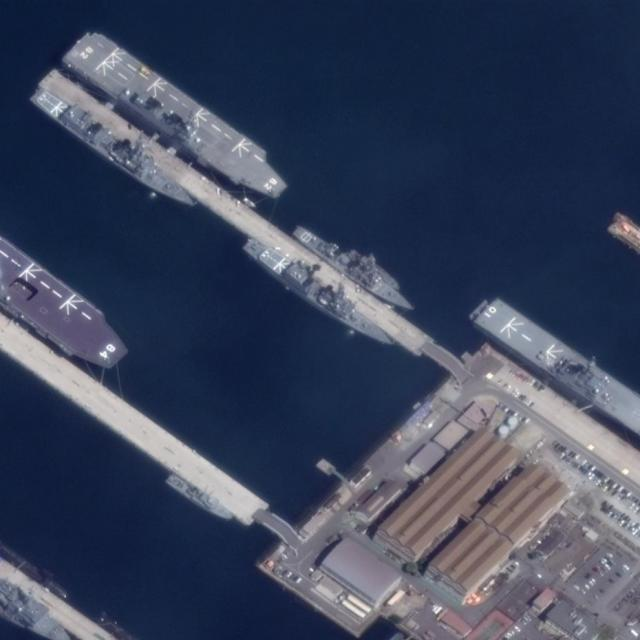Aircraft Carrier: (2, 223, 130, 377)
Destroyer: (62, 28, 296, 208), (470, 291, 639, 438), (25, 83, 203, 216), (240, 234, 398, 355), (288, 219, 418, 317)
Dock: (42, 63, 465, 379)
Other Warship: (163, 470, 235, 526)
